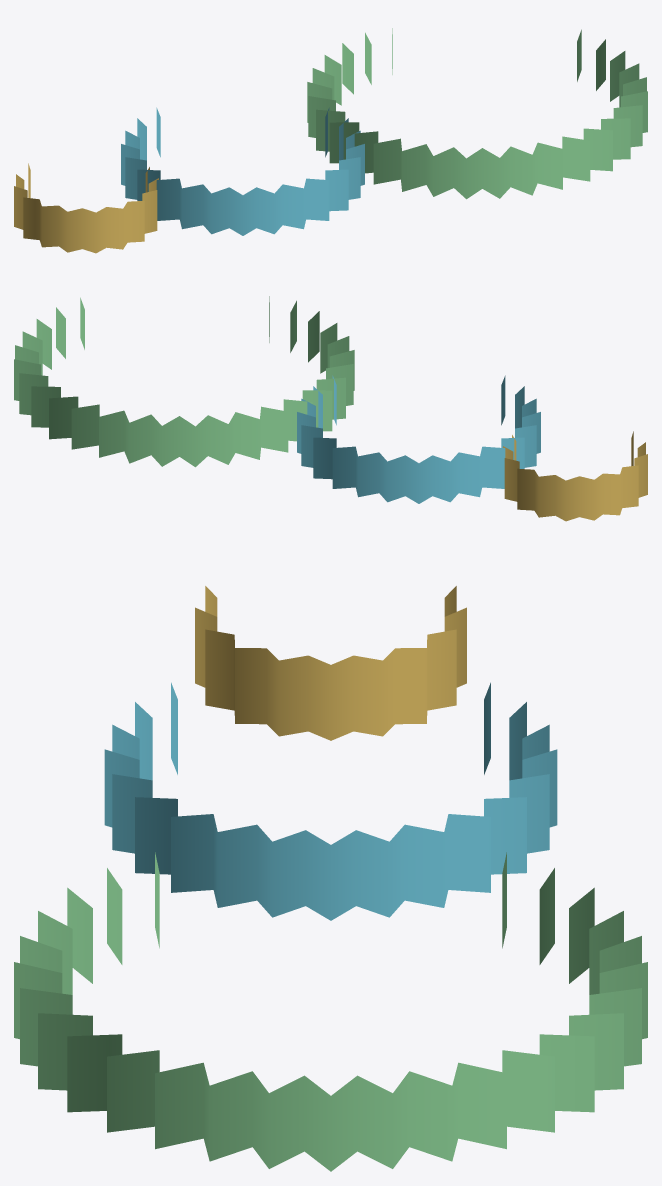
The model's file is gear_trains.glb.
The picture shows the model from 3 angles, top to bottom: view 1: azimuth 30°, elevation 25°; view 2: azimuth 150°, elevation 25°; view 3: azimuth 270°, elevation 25°; orthographic projection. The views are drawn at different scales.
Visible parts, largest first — view 1: DrivenGear, IdlerGear, DriverGear; view 2: DrivenGear, IdlerGear, DriverGear; view 3: DrivenGear, IdlerGear, DriverGear.
Boxes of the visible parts, bbox=[...] form: DrivenGear: bbox=[307, 28, 647, 199]; IdlerGear: bbox=[121, 107, 364, 235]; DriverGear: bbox=[14, 163, 158, 253]; DrivenGear: bbox=[14, 296, 354, 467]; IdlerGear: bbox=[297, 375, 540, 503]; DriverGear: bbox=[503, 431, 647, 521]; DrivenGear: bbox=[14, 852, 647, 1171]; IdlerGear: bbox=[104, 682, 557, 920]; DriverGear: bbox=[195, 586, 466, 740].
Size of the model in its own units: 6.16 by 0.4 by 3.02.
